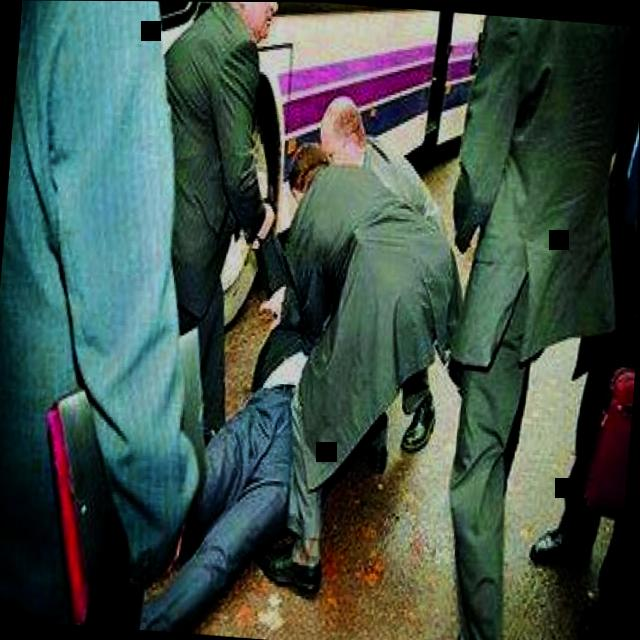Fall-Detected: (140, 274, 351, 640)
